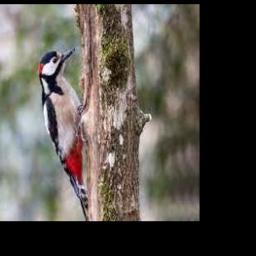Woodpecker: (39, 47, 89, 221)
